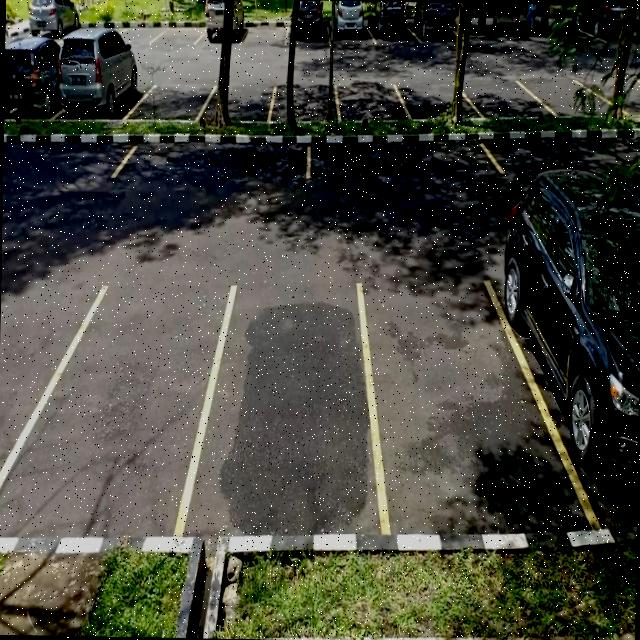empty: (357, 279, 546, 541), (22, 278, 208, 544), (201, 280, 379, 540), (117, 132, 312, 188), (306, 133, 504, 188), (335, 82, 410, 125), (270, 82, 340, 126), (403, 80, 472, 123), (136, 82, 210, 121), (204, 84, 275, 124), (468, 79, 534, 120), (148, 11, 202, 47), (240, 15, 289, 47)
occupied: (497, 213, 640, 528), (57, 39, 139, 124), (4, 38, 58, 122), (196, 0, 247, 48), (283, 0, 330, 48), (368, 0, 416, 46), (326, 0, 372, 45)
